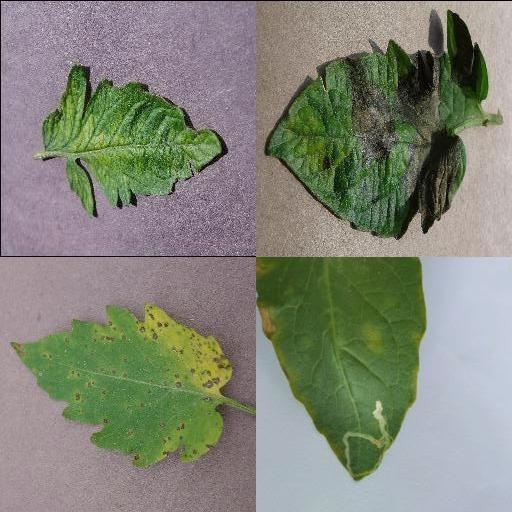Late Blight: (265, 7, 489, 239)
Leaf Miner: (256, 256, 427, 484)
Mosaic Virus: (43, 63, 225, 219)
Septoria: (9, 300, 235, 468)
